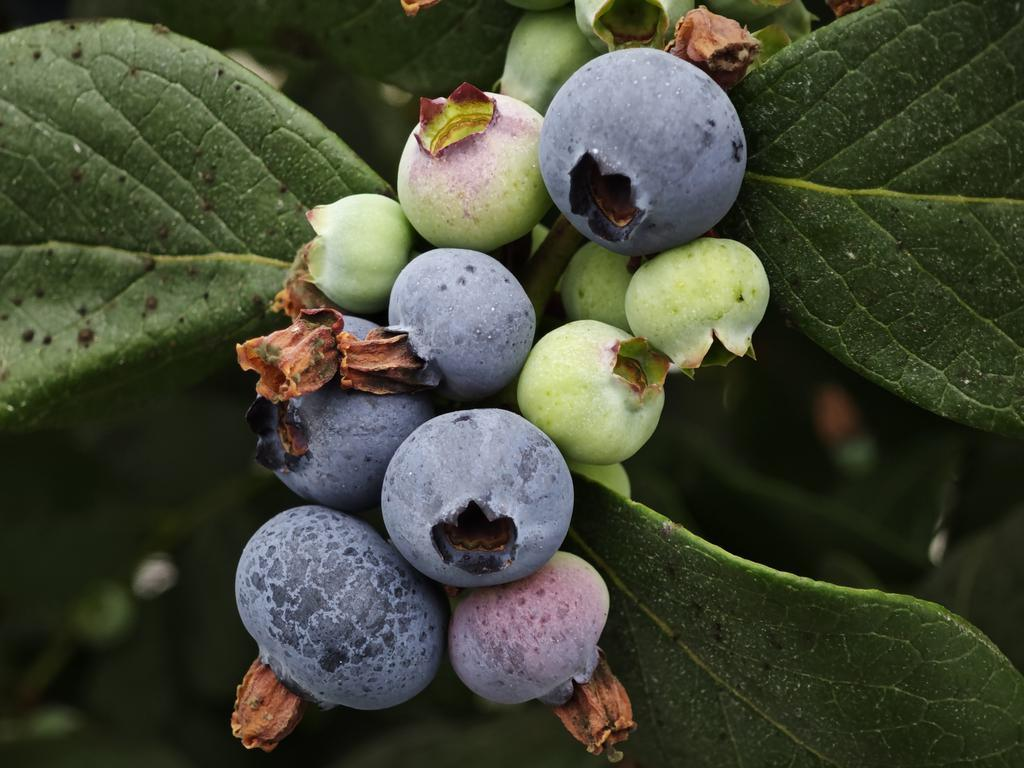RipeBlueBerry: (233, 508, 441, 719), (541, 46, 748, 257), (379, 407, 573, 581), (388, 248, 533, 398)
